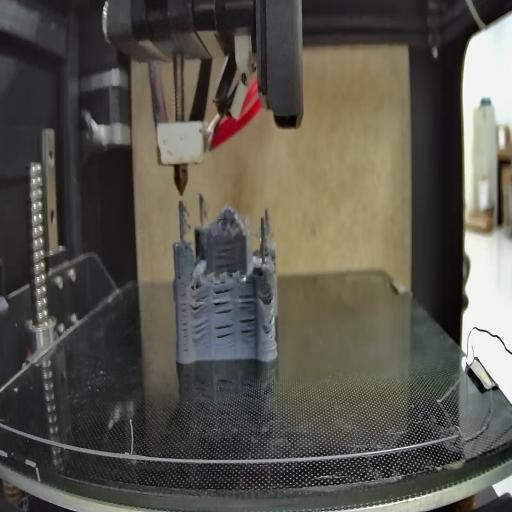cracks: (239, 285, 257, 344), (180, 278, 190, 354), (210, 286, 233, 316), (216, 238, 236, 272), (212, 323, 238, 343), (259, 279, 276, 308), (190, 292, 207, 315), (193, 320, 207, 346), (262, 314, 276, 335)
